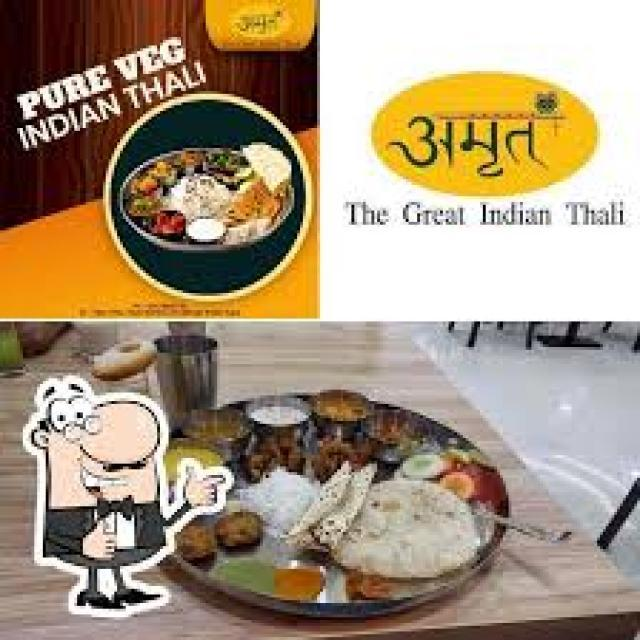dal: (380, 73, 600, 202), (196, 2, 309, 56), (88, 403, 161, 466), (255, 557, 342, 606)
rice: (341, 474, 490, 587), (246, 469, 322, 546)
roti: (297, 471, 485, 582)
sambar-rasam: (261, 556, 334, 607)
veg-fry: (123, 137, 283, 229)
